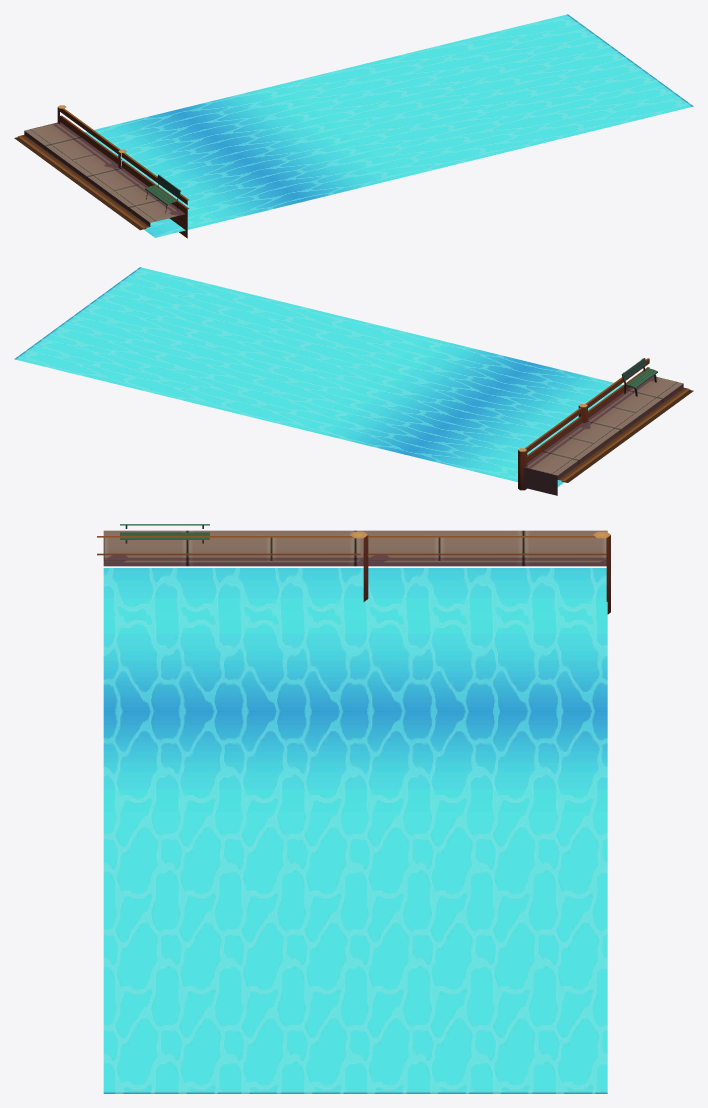
The model's file is 1.100_SanFrancisco_high_01_left.glb.
The picture shows the model from 3 angles, top to bottom: view 1: azimuth 30°, elevation 25°; view 2: azimuth 150°, elevation 25°; view 3: azimuth 270°, elevation 25°; orthographic projection. The views are drawn at different scales.
Visible parts, largest first — view 1: 1.100_SanFrancisco_high_01_left; view 2: 1.100_SanFrancisco_high_01_left; view 3: 1.100_SanFrancisco_high_01_left.
Boxes of the visible parts, x1,y1,x2,y2 form: 1.100_SanFrancisco_high_01_left: (14, 14, 693, 238); 1.100_SanFrancisco_high_01_left: (14, 267, 693, 495); 1.100_SanFrancisco_high_01_left: (97, 524, 610, 1093).
Bounding box in the file's own units: 457 × 34.4 × 184.
2 materials, 2 textured.
